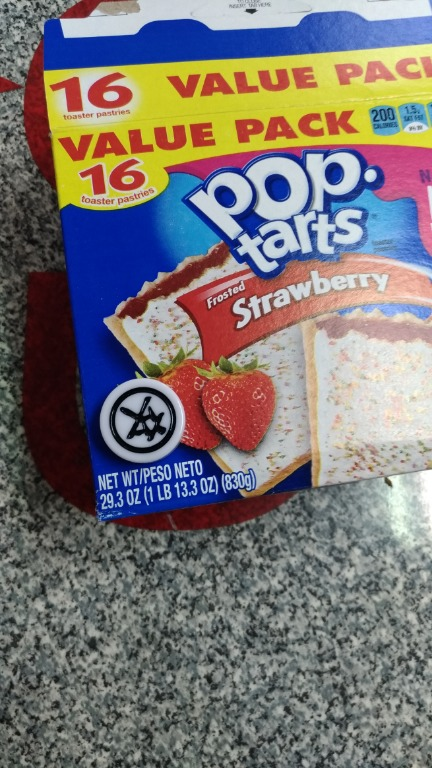b-pawn: (77, 367, 203, 478)
